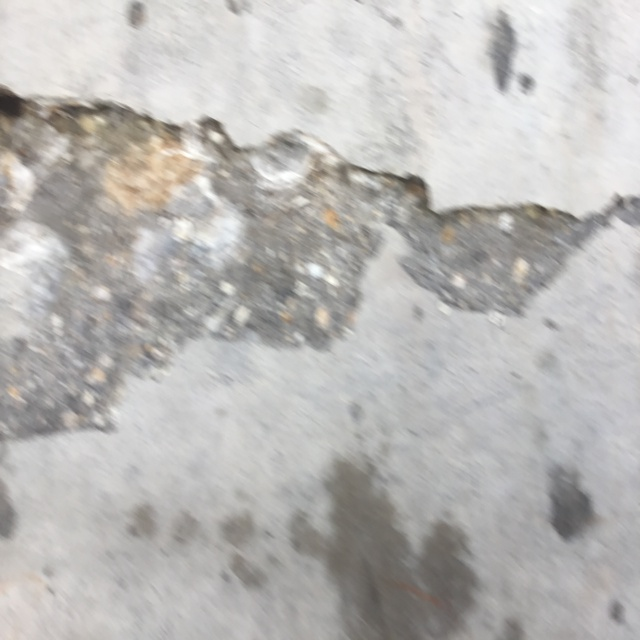spall: (0, 78, 355, 431), (352, 156, 640, 324)
